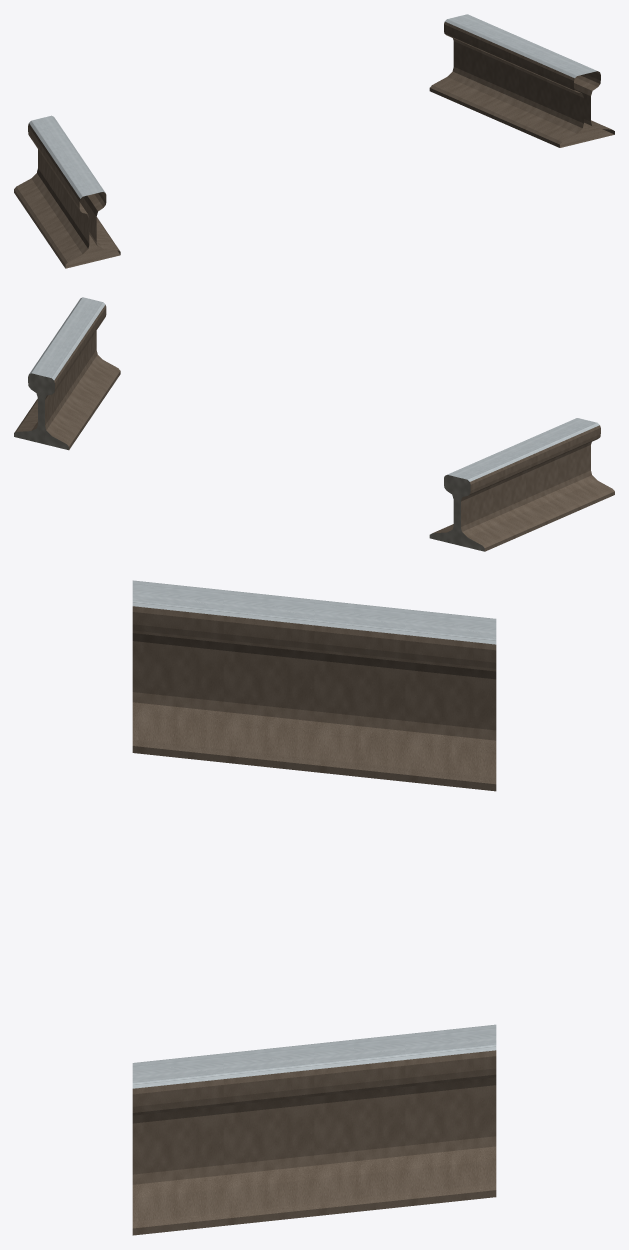
Rendered from outer_guard_endpoint.obj.
The picture shows the model from 3 angles, top to bottom: view 1: azimuth 30°, elevation 25°; view 2: azimuth 150°, elevation 25°; view 3: azimuth 270°, elevation 25°; orthographic projection. The views are drawn at different scales.
Parts seen in each view (by area): view 1: terminal_right, terminal_left; view 2: terminal_left, terminal_right; view 3: terminal_left, terminal_right.
Boxes of the visible parts, x1=… form: terminal_right: x1=429, y1=14, x2=614, y2=147; terminal_left: x1=14, y1=115, x2=120, y2=268; terminal_left: x1=429, y1=418, x2=614, y2=551; terminal_right: x1=14, y1=297, x2=120, y2=450; terminal_left: x1=132, y1=580, x2=496, y2=791; terminal_right: x1=132, y1=1024, x2=496, y2=1235.
Size of the model in its own units: 1.4 by 0.1649 by 0.4.
1 material, 1 textured.
